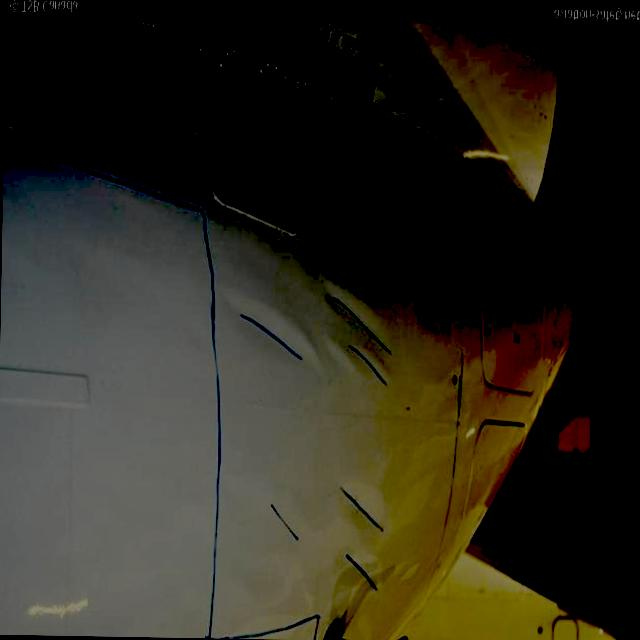dent: (334, 486, 392, 528)
